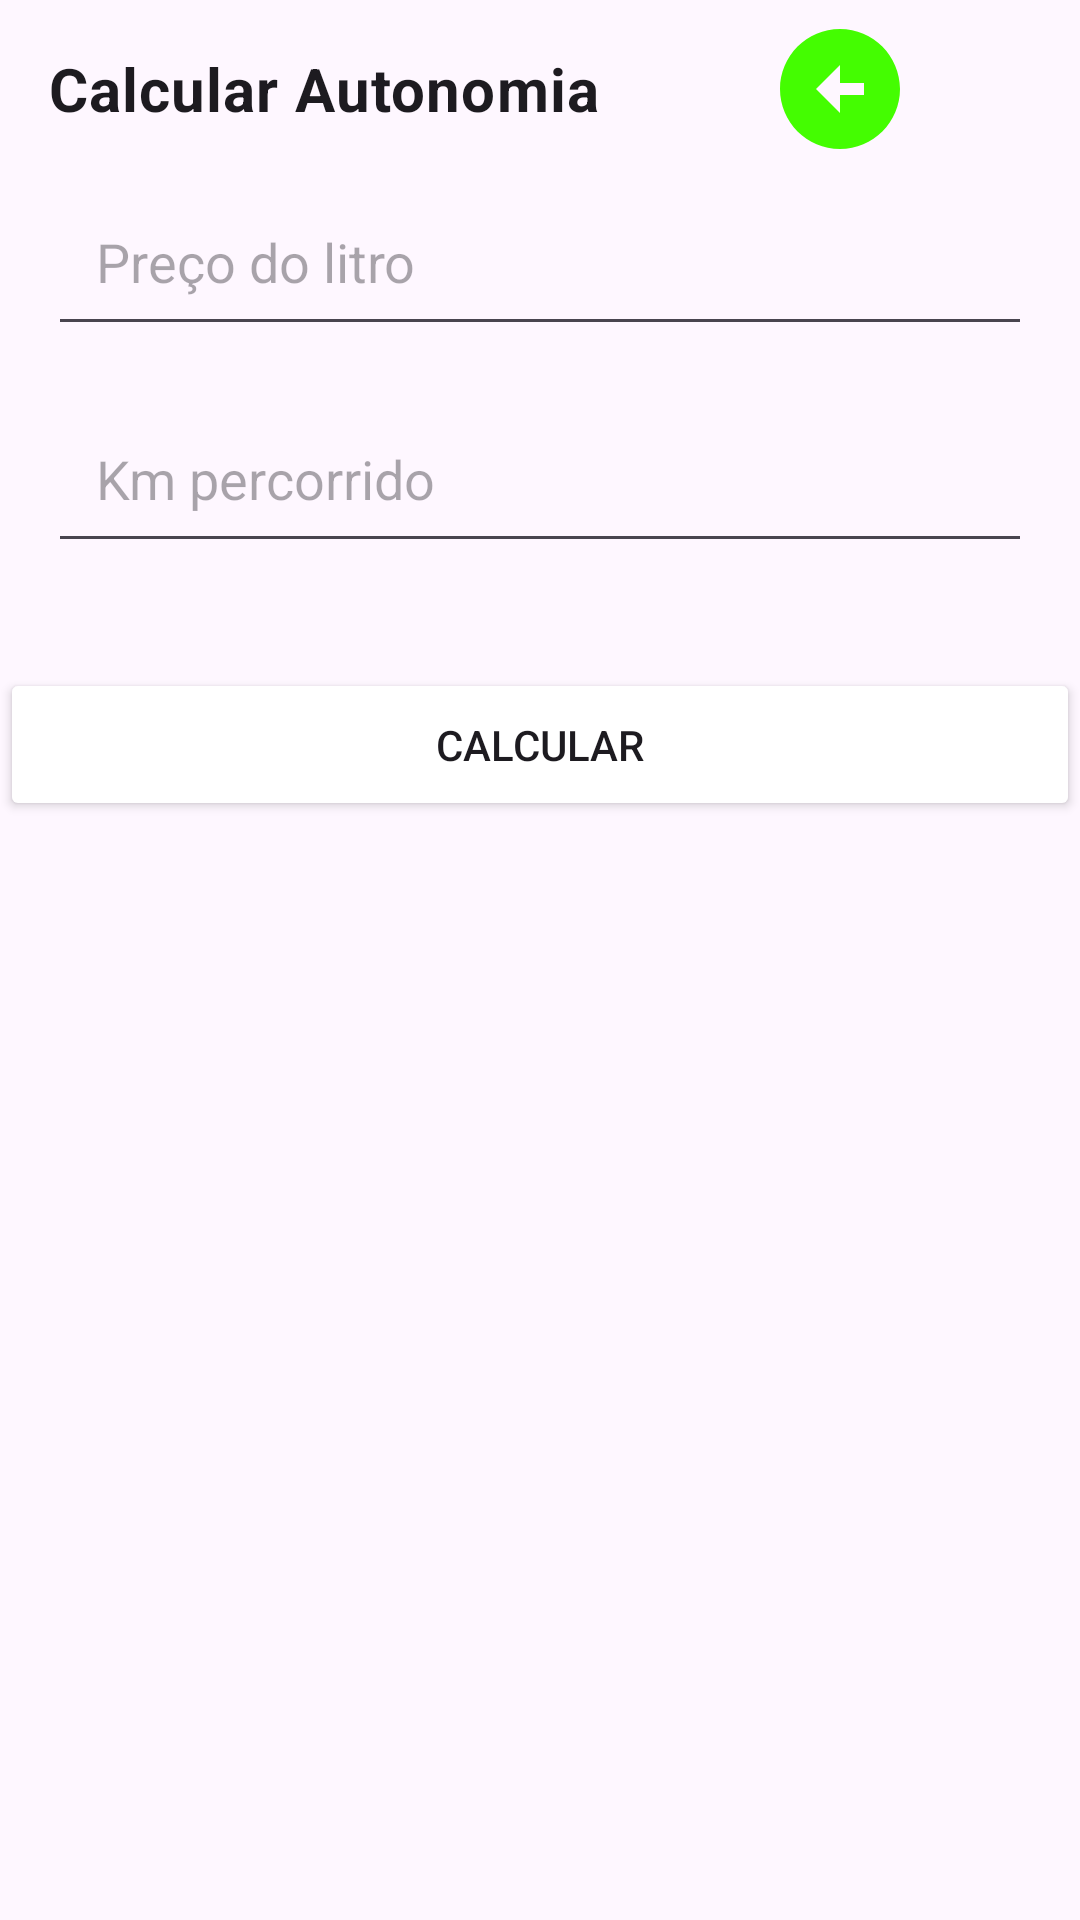

Screen size 1080 x 1920. Icon name, then its box in pixels as {"left": x1, "top": y1, "right": x2, "bottom": y2}:
arrow circle left: {"left": 780, "top": 29, "right": 900, "bottom": 149}
